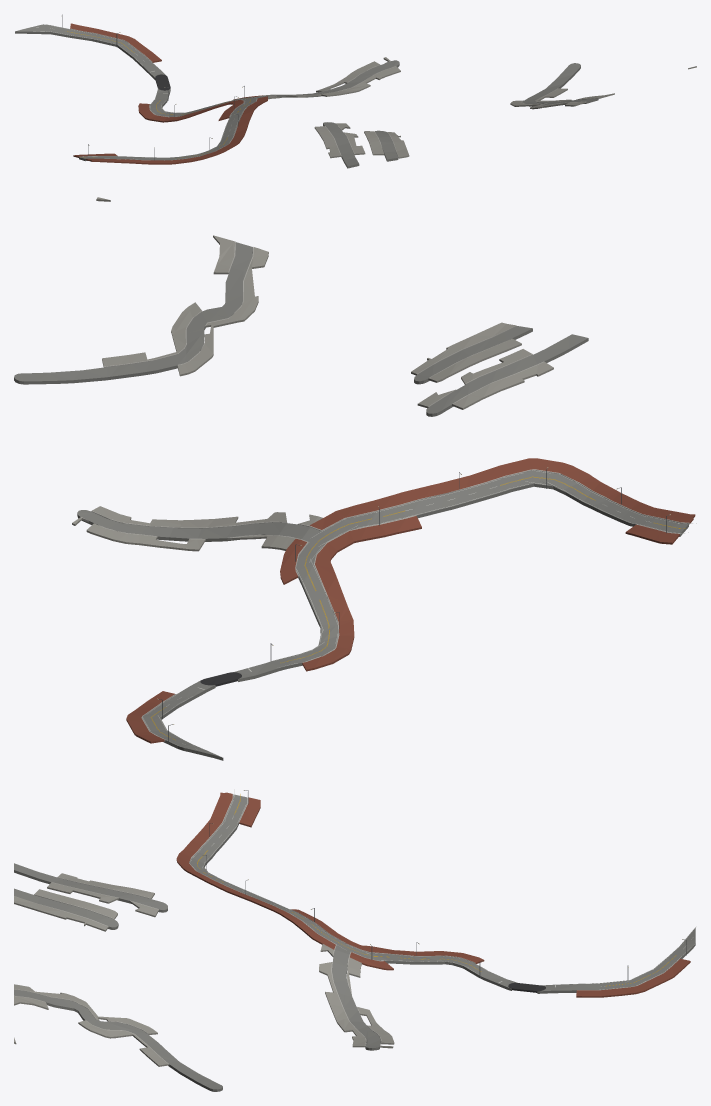
3 renders of one model, top to bottom at view 1: azimuth 30°, elevation 25°; view 2: azimuth 150°, elevation 25°; view 3: azimuth 270°, elevation 25°, orthographic. The views are drawn at different scales.
Bounding box in the file's own units: 297 × 58.11 × 292.
